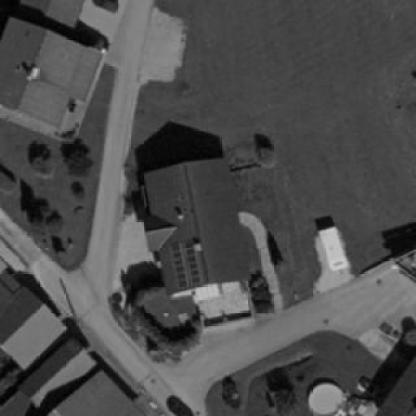solar-pv-panel: (171, 240, 201, 287)
